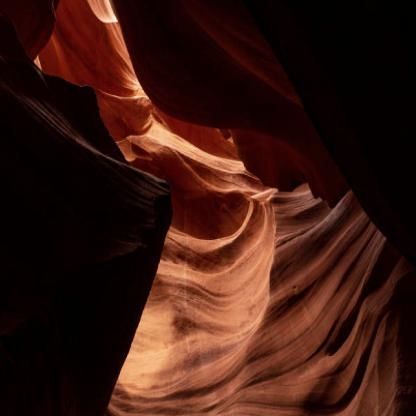Sedimentary_Sandstone: (114, 0, 416, 295), (0, 102, 186, 415)
